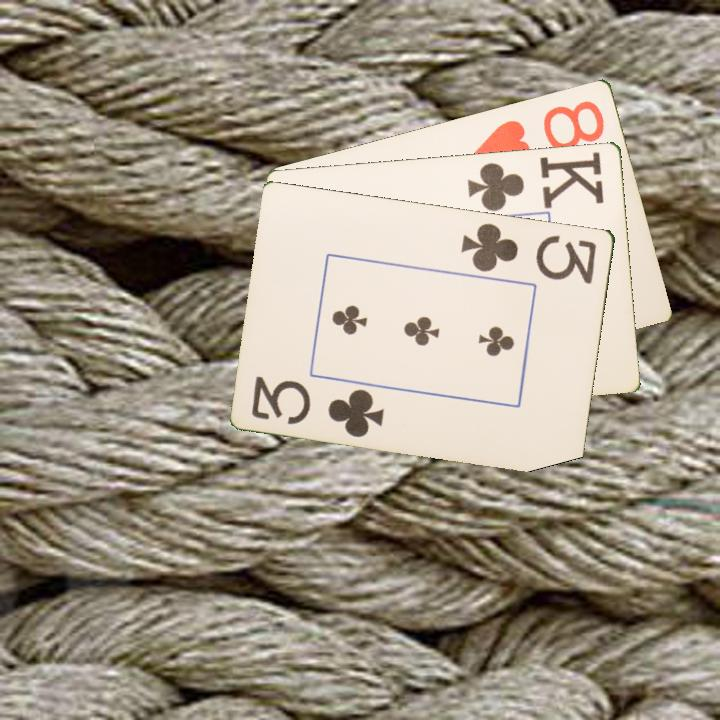3c: (457, 219, 600, 287), (248, 372, 388, 440)
8h: (470, 96, 608, 166)
Kc: (464, 148, 608, 214)
